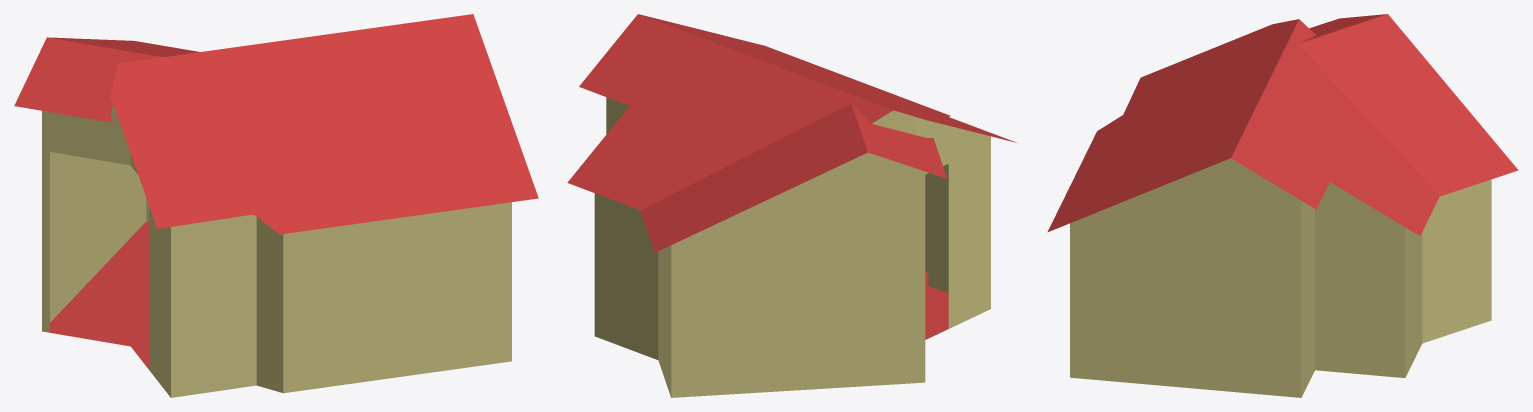
3 views of the same model, side by side, from view 1: azimuth 30°, elevation 25°; view 2: azimuth 150°, elevation 25°; view 3: azimuth 270°, elevation 25° (orthographic). The views are drawn at different scales.
Bounding box in the file's own units: 16.9 × 18.47 × 10.46.
